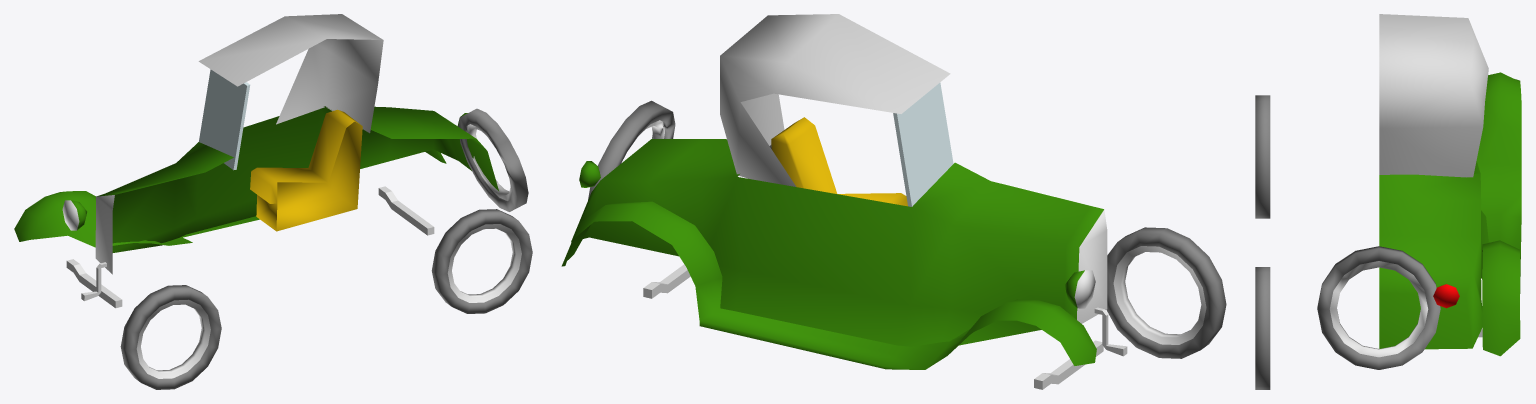
Rendered from ford-model-t.glb.
3 renders of one model, left to right at view 1: azimuth 30°, elevation 25°; view 2: azimuth 150°, elevation 25°; view 3: azimuth 270°, elevation 25°, orthographic. The views are drawn at different scales.
Parts seen in each view (by area): view 1: ModelTBody, ModelTRoof, ModelTSeat, ModelTWheelsFront, ModelTWheelsRear, ModelTFender, ModelTWindow, ModelTWheelReserve, ModelTAxisRear, ModelTAxisFront, ModelTLightsFront; view 2: ModelTBody, ModelTRoof, ModelTFender, ModelTWheelsFront, ModelTWindow, ModelTSeat, ModelTWheelReserve, ModelTLightsFront, ModelTAxisFront, ModelTAxisRear; view 3: ModelTRoof, ModelTBody, ModelTFender, ModelTWheelReserve, ModelTWheelsFront, ModelTWheelsRear, ModelTLightsRear.
Part boxes in pixels (x1=…): ModelTBody: x1=95, y1=106, x2=498, y2=274; ModelTRoof: x1=198, y1=14, x2=383, y2=133; ModelTSeat: x1=250, y1=109, x2=362, y2=231; ModelTWheelsFront: x1=120, y1=285, x2=221, y2=389; ModelTWheelsRear: x1=431, y1=209, x2=532, y2=313; ModelTFender: x1=14, y1=149, x2=446, y2=247; ModelTWindow: x1=199, y1=69, x2=250, y2=170; ModelTWheelReserve: x1=458, y1=108, x2=528, y2=211; ModelTAxisRear: x1=378, y1=186, x2=434, y2=235; ModelTAxisFront: x1=66, y1=259, x2=122, y2=308; ModelTLightsFront: x1=62, y1=200, x2=86, y2=230; ModelTBody: x1=571, y1=139, x2=1107, y2=346; ModelTRoof: x1=720, y1=14, x2=950, y2=186; ModelTFender: x1=561, y1=201, x2=1096, y2=369; ModelTWheelsFront: x1=1106, y1=227, x2=1226, y2=358; ModelTWindow: x1=893, y1=82, x2=953, y2=206; ModelTSeat: x1=771, y1=117, x2=907, y2=206; ModelTWheelReserve: x1=588, y1=100, x2=675, y2=199; ModelTLightsFront: x1=1065, y1=270, x2=1095, y2=308; ModelTAxisFront: x1=1034, y1=340, x2=1103, y2=389; ModelTAxisRear: x1=643, y1=264, x2=690, y2=298; ModelTRoof: x1=1379, y1=14, x2=1488, y2=177; ModelTBody: x1=1379, y1=161, x2=1488, y2=349; ModelTFender: x1=1476, y1=72, x2=1521, y2=356; ModelTWheelReserve: x1=1317, y1=246, x2=1440, y2=369; ModelTWheelsFront: x1=1255, y1=95, x2=1270, y2=218; ModelTWheelsRear: x1=1255, y1=267, x2=1270, y2=389; ModelTLightsRear: x1=1433, y1=284, x2=1459, y2=308.
Size of the model in its own units: 3.23 by 1.82 by 1.5.
